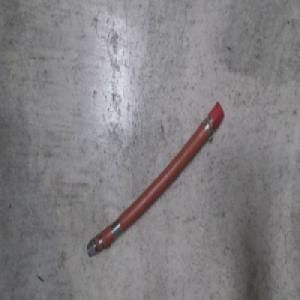Hose: (86, 101, 225, 260)
